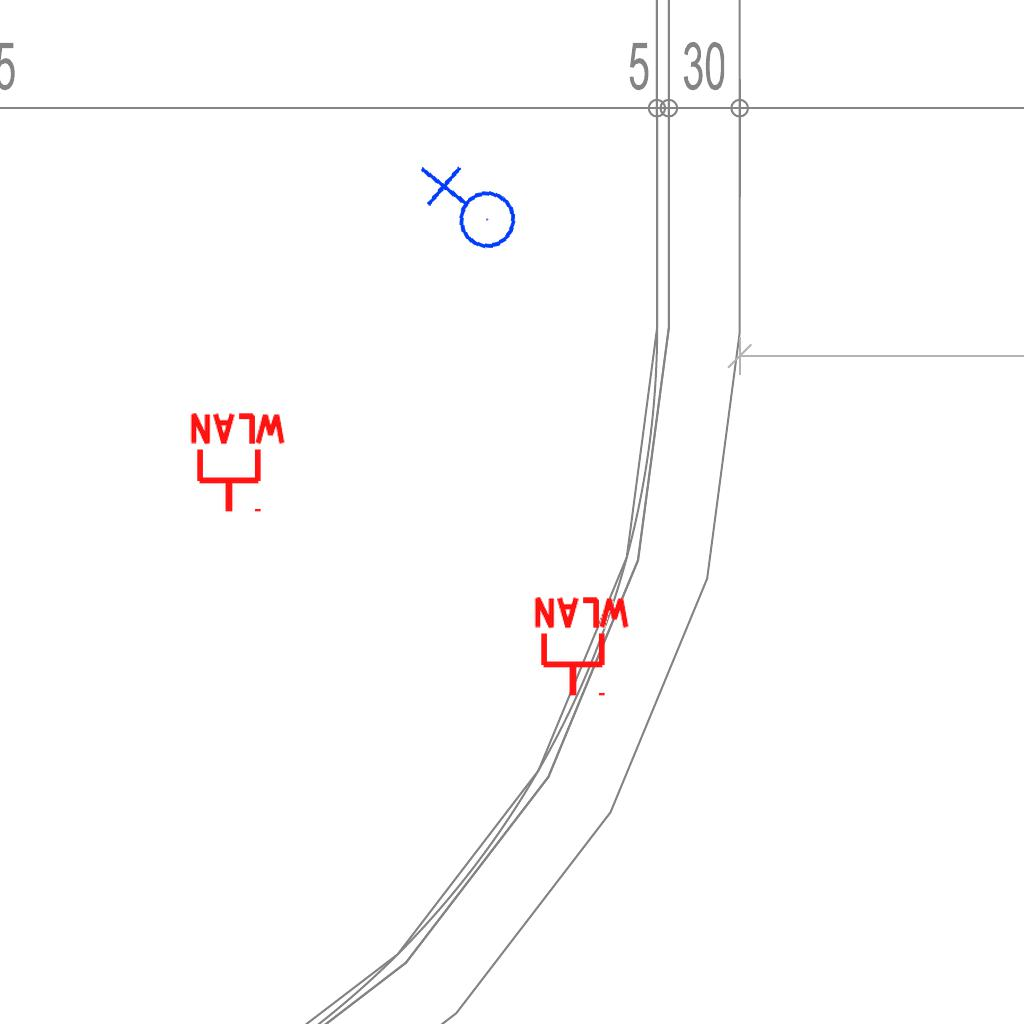Elektroanschluss_allgemein_230V_Geraeteanschlussdose_230V: (415, 154, 522, 266)
WLAN: (186, 411, 290, 516), (530, 595, 634, 700)
